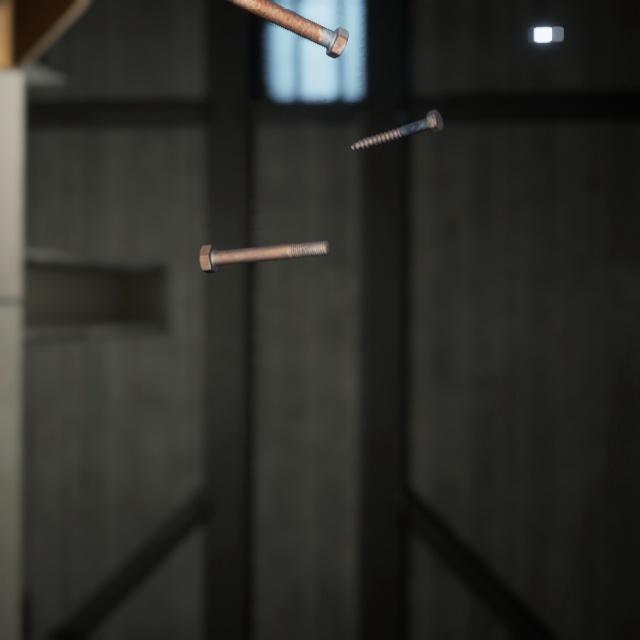bolt: (236, 0, 353, 55), (194, 219, 334, 261), (346, 93, 447, 142)
